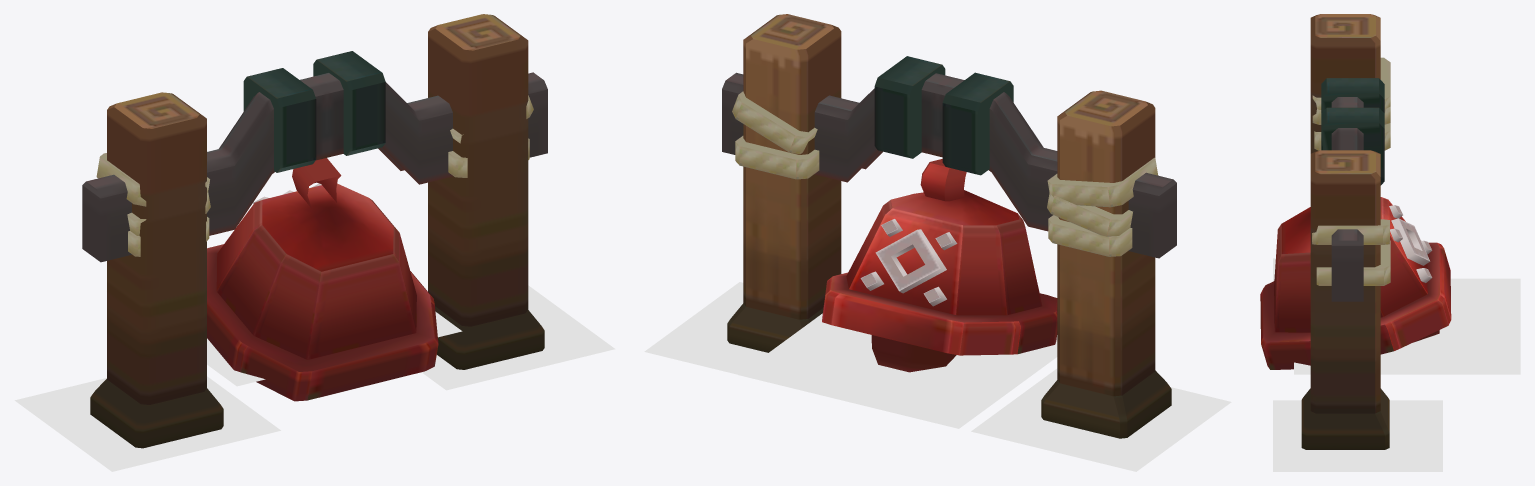
The model's file is [gimmick]bell_red.fbx.
3 views of the same model, side by side, from view 1: azimuth 30°, elevation 25°; view 2: azimuth 150°, elevation 25°; view 3: azimuth 270°, elevation 25° (orthographic). The views are drawn at different scales.
Visible parts, largest first — view 1: [gimmick]bell_red, bell_red, shadow2, shadow1, shadow; view 2: [gimmick]bell_red, bell_red, shadow, shadow2, shadow1; view 3: [gimmick]bell_red, bell_red, shadow, shadow1.
Part boxes in pixels (x1=…): [gimmick]bell_red: x1=82, y1=14, x2=547, y2=448; bell_red: x1=207, y1=158, x2=438, y2=401; shadow2: x1=14, y1=376, x2=280, y2=471; shadow1: x1=422, y1=285, x2=615, y2=390; shadow: x1=207, y1=311, x2=462, y2=386; [gimmick]bell_red: x1=722, y1=14, x2=1176, y2=438; bell_red: x1=822, y1=159, x2=1057, y2=372; shadow: x1=738, y1=313, x2=1057, y2=428; shadow2: x1=971, y1=368, x2=1231, y2=471; shadow1: x1=644, y1=282, x2=767, y2=374; [gimmick]bell_red: x1=1301, y1=14, x2=1390, y2=449; bell_red: x1=1260, y1=197, x2=1451, y2=369; shadow: x1=1294, y1=278, x2=1520, y2=374; shadow1: x1=1273, y1=400, x2=1442, y2=471.
Size of the model in its own units: 2.68 by 1.59 by 1.38.
Materials: 2 (2 with a texture image).
